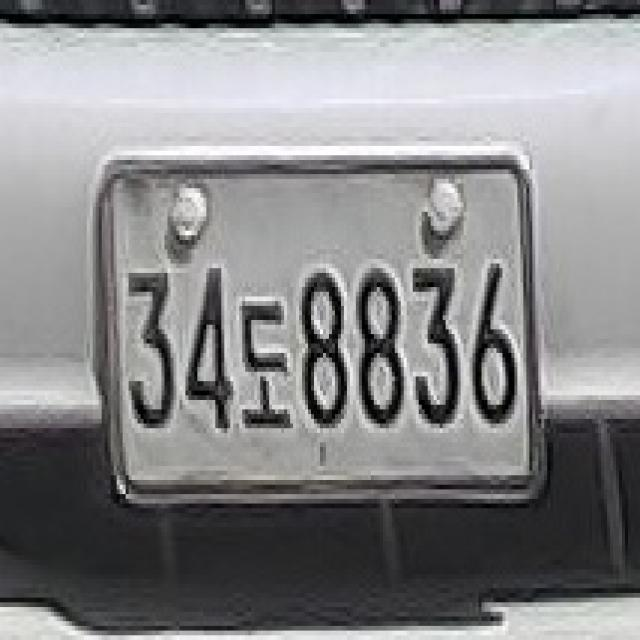3: (122, 263, 176, 433), (410, 259, 460, 428)
4: (180, 268, 237, 433)
6: (467, 259, 518, 428)
8: (350, 259, 404, 433), (296, 263, 350, 433)
do: (236, 292, 290, 438)
license_plate: (108, 165, 535, 489)
